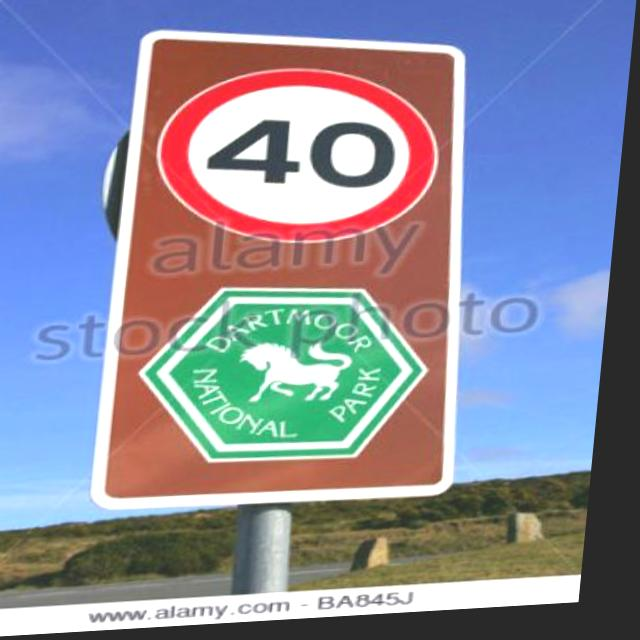limit40: (146, 52, 462, 260)
